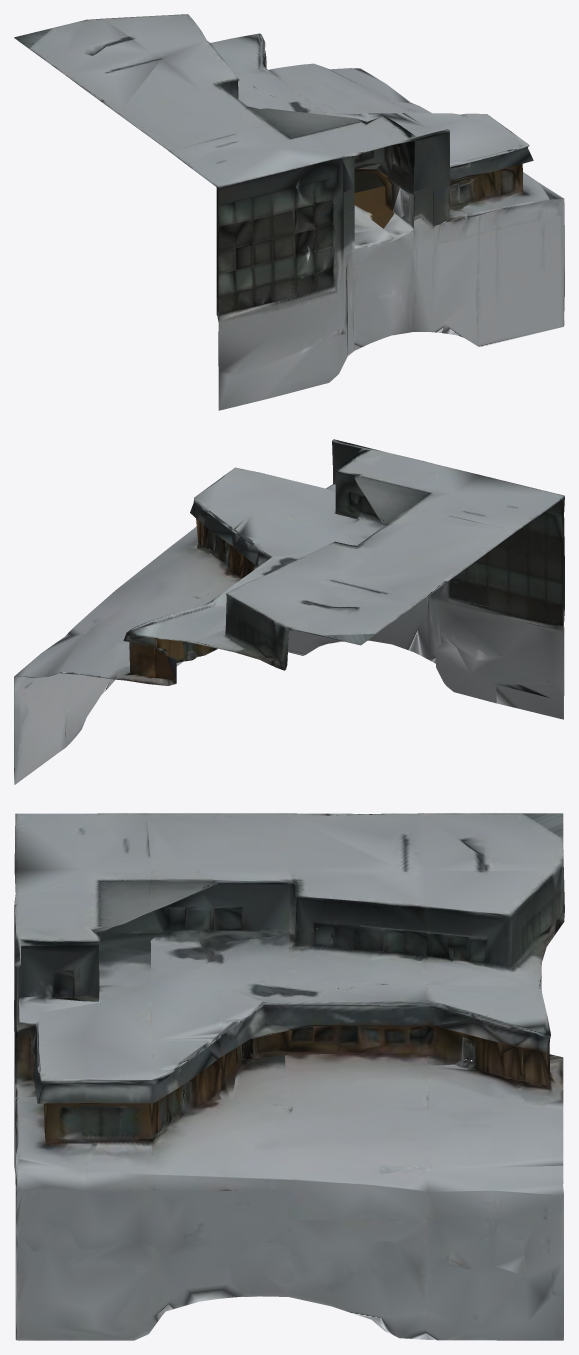
File: construction-13.glb
The picture shows the model from 3 angles, top to bottom: view 1: azimuth 30°, elevation 25°; view 2: azimuth 150°, elevation 25°; view 3: azimuth 270°, elevation 25°; orthographic projection. The views are drawn at different scales.
Bounding box in the file's own units: 1.12 × 0.6939 × 1.15.
1 material, 1 textured.
